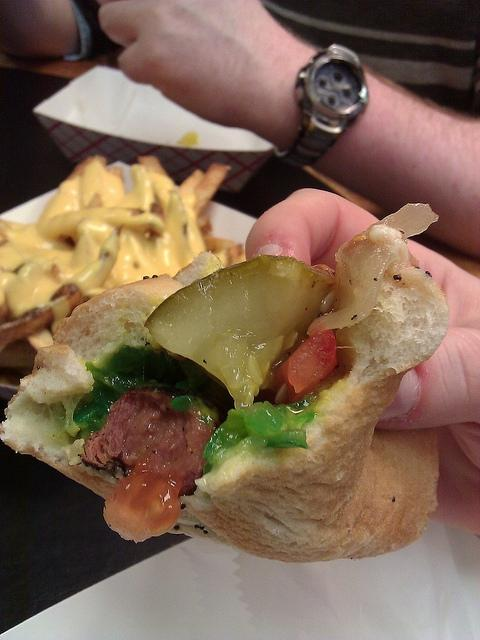tomato: (102, 462, 184, 544), (273, 329, 339, 405)
